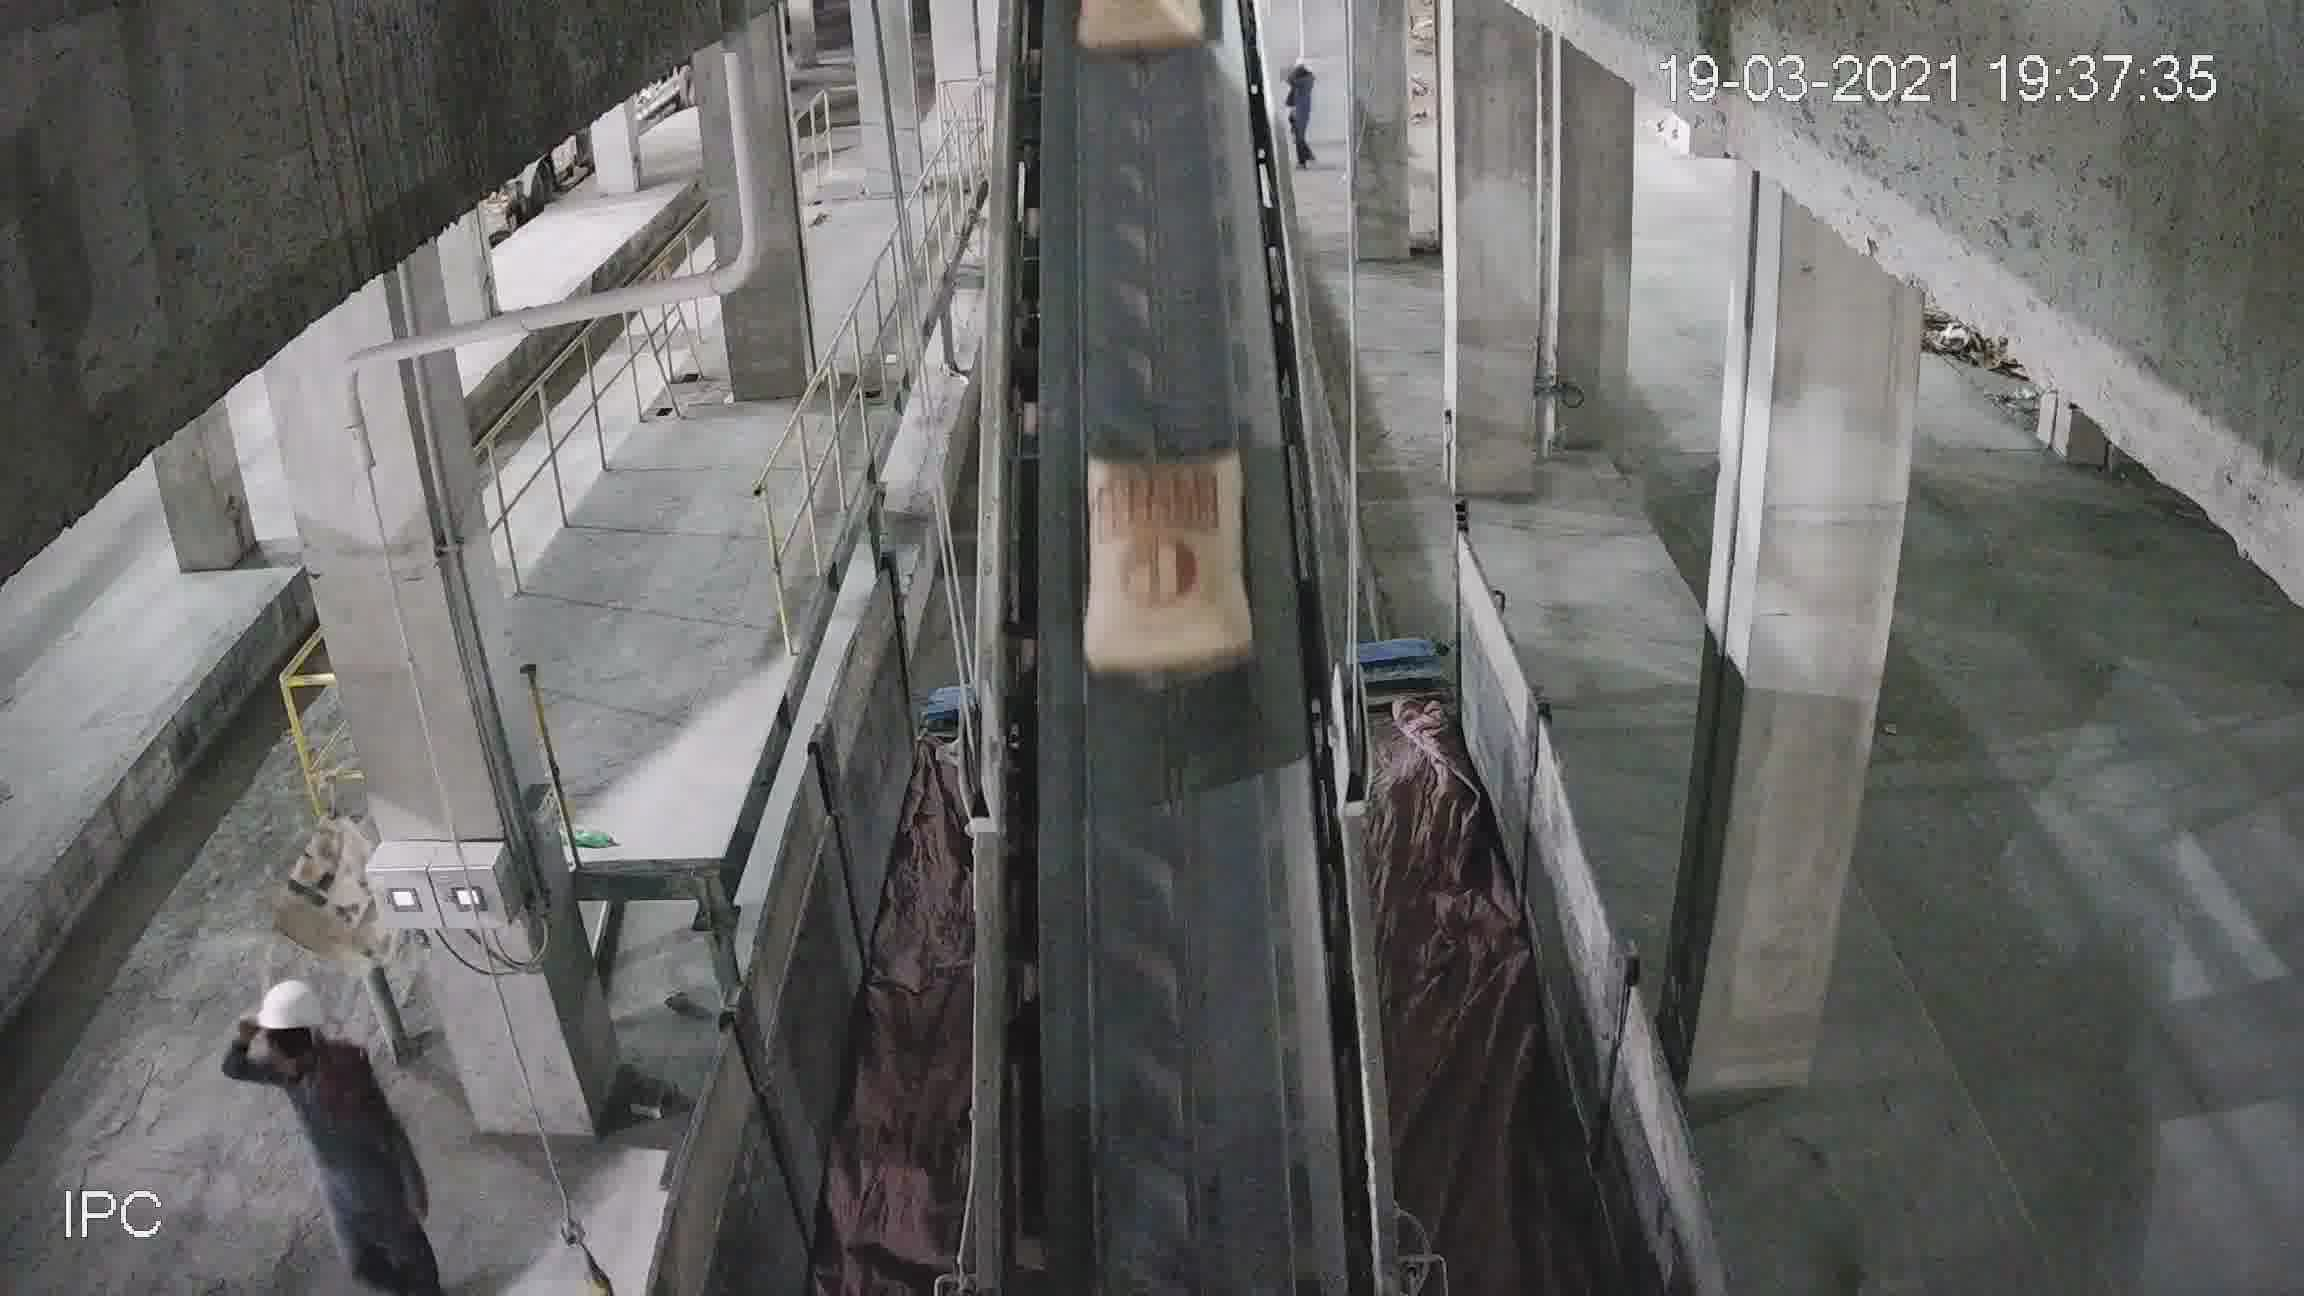bag: (1087, 457, 1242, 684)
belt: (975, 28, 1331, 1136)
